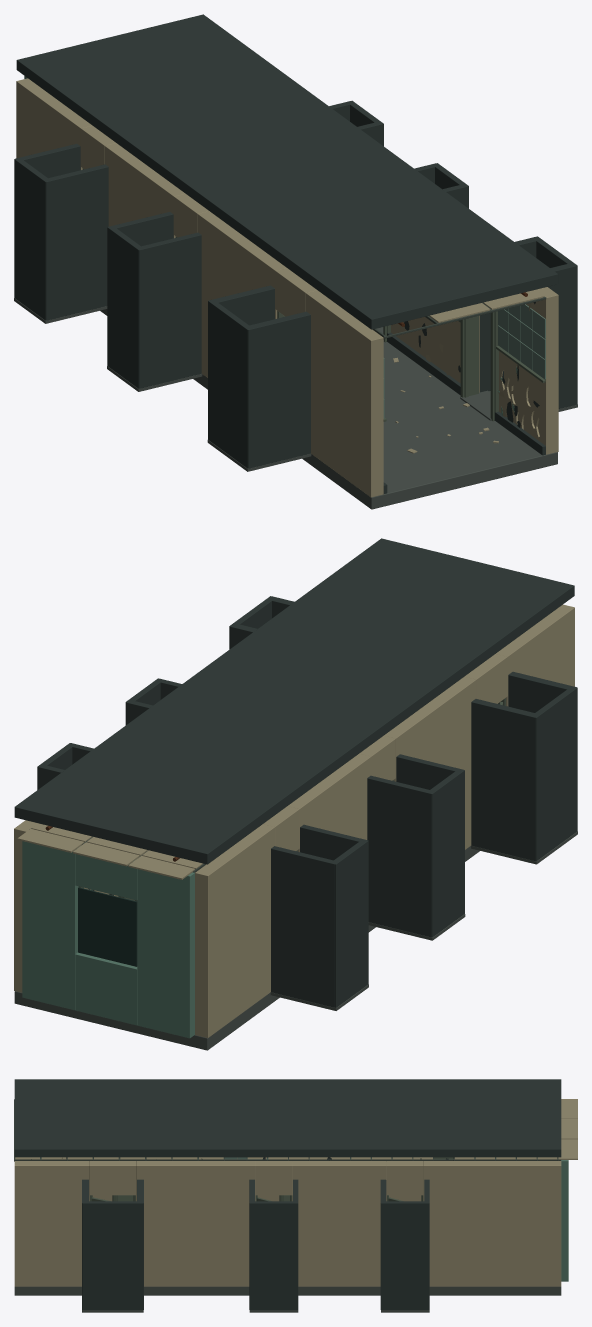
The model's file is hospital_corridor.glb.
3 renders of one model, top to bottom at view 1: azimuth 30°, elevation 25°; view 2: azimuth 150°, elevation 25°; view 3: azimuth 270°, elevation 25°, orthographic. The views are drawn at different scales.
Parts seen in each view (by area): view 1: Structural overhead slab_export, Thick corridor floor slab_export, Wall pier -1 0_export, Room return wall_export, Room return wall.002_export, Room return wall.004_export, Dark room rear wall_export, Wall pier -1 1_export, Wall pier 1 0_export, Dark room rear wall.002_export, Dark room rear wall.001_export, Wall pier -1 2_export (+14 smaller); view 2: Structural overhead slab_export, Final wall pier_export, Room return wall.001_export, Room return wall.003_export, Room return wall.005_export, End wall side_export, End wall side.001_export, Dark room rear wall_export, Wall pier -1 1_export, Dark room rear wall.002_export, Dark room rear wall.001_export, Wall pier -1 2_export (+16 smaller); view 3: Structural overhead slab_export, Final wall pier.001_export, Wall pier 1 1_export, Wall pier 1 2_export, Wall pier 1 0_export, Dark room rear wall.003_export, Dark room rear wall.004_export, Dark room rear wall.005_export, Thick corridor floor slab_export, Door lintel 1 0_export, Door lintel 1 1_export, Door lintel 1 2_export (+5 smaller).
Part boxes in pixels (x1,y1,x2,y2): Structural overhead slab_export: [16, 14, 558, 329]; Thick corridor floor slab_export: [100, 309, 557, 509]; Wall pier -1 0_export: [306, 290, 383, 497]; Room return wall_export: [248, 311, 310, 468]; Room return wall.002_export: [139, 232, 201, 388]; Room return wall.004_export: [46, 164, 108, 320]; Dark room rear wall_export: [208, 299, 252, 468]; Wall pier -1 1_export: [198, 211, 286, 377]; Wall pier 1 0_export: [499, 287, 558, 454]; Dark room rear wall.002_export: [14, 157, 50, 320]; Dark room rear wall.001_export: [107, 226, 143, 388]; Wall pier -1 2_export: [105, 143, 185, 238]; Structural overhead slab_export: [14, 538, 574, 864]; Final wall pier_export: [195, 824, 274, 1037]; Room return wall.001_export: [471, 699, 535, 860]; Room return wall.003_export: [367, 775, 432, 937]; Room return wall.005_export: [271, 846, 334, 1007]; End wall side_export: [137, 869, 194, 1038]; End wall side.001_export: [22, 841, 78, 1010]; Dark room rear wall_export: [531, 686, 577, 861]; Wall pier -1 1_export: [384, 676, 476, 849]; Dark room rear wall.002_export: [331, 839, 368, 1007]; Dark room rear wall.001_export: [427, 770, 464, 937]; Wall pier -1 2_export: [288, 753, 371, 851]; Structural overhead slab_export: [14, 1079, 561, 1157]; Final wall pier.001_export: [423, 1161, 561, 1286]; Wall pier 1 1_export: [136, 1161, 255, 1286]; Wall pier 1 2_export: [292, 1161, 386, 1286]; Wall pier 1 0_export: [14, 1161, 89, 1286]; Dark room rear wall.003_export: [82, 1201, 143, 1310]; Dark room rear wall.004_export: [249, 1201, 298, 1310]; Dark room rear wall.005_export: [381, 1201, 429, 1310]; Thick corridor floor slab_export: [14, 1286, 561, 1295]; Door lintel 1 0_export: [89, 1161, 135, 1195]; Door lintel 1 1_export: [255, 1161, 292, 1195]; Door lintel 1 2_export: [387, 1161, 423, 1195].
Bounding box in the file's own units: 6.39 × 3.7 × 12.9.
